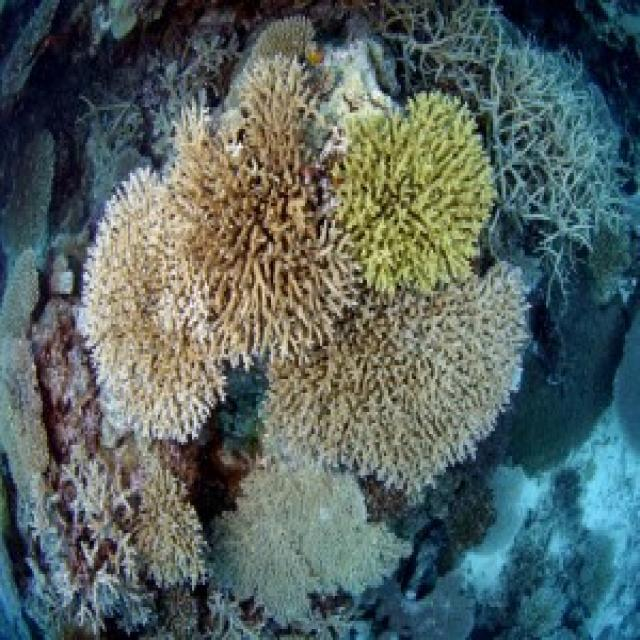Bleached: (381, 1, 620, 284), (33, 298, 206, 619), (214, 440, 408, 622), (1, 245, 59, 553), (133, 443, 206, 586), (37, 141, 50, 218)
Healthy: (266, 262, 528, 498), (172, 56, 357, 358), (78, 169, 225, 438), (330, 92, 496, 289)
